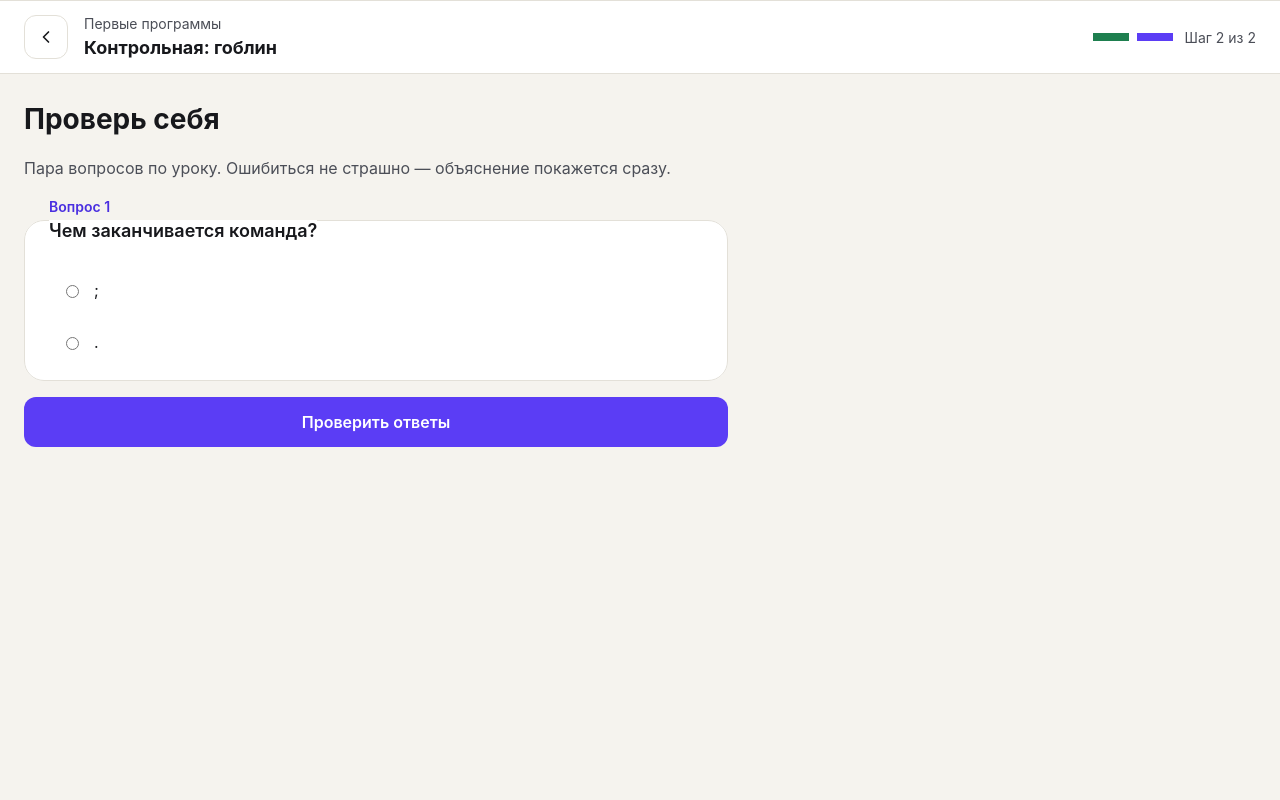
Test case: LessonView › вопросы контрольной пройдены, а урок модуля — нет: сколько осталось и куда идти
Step 1. Click the radio button labelled ";" → (72, 292), box [66,285,79,298]
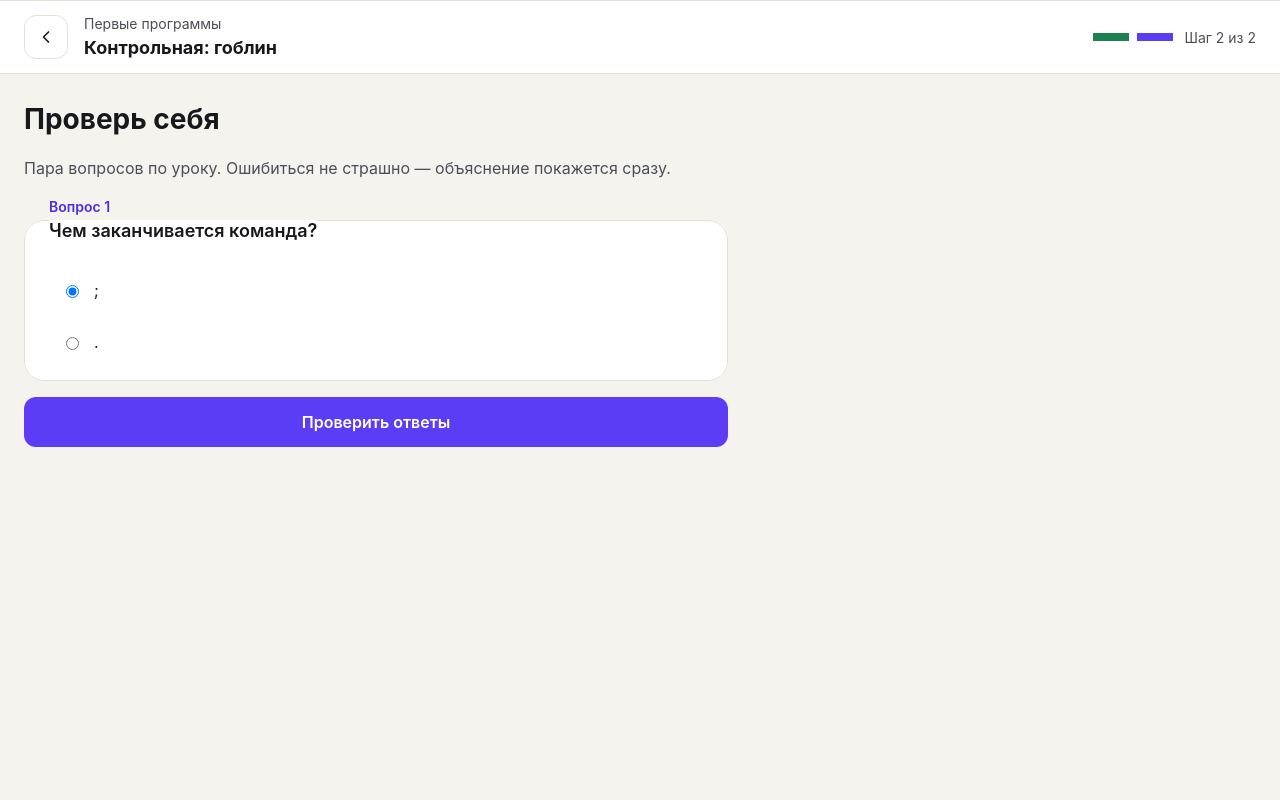
Step 2. Click the button "Проверить ответы" → (376, 422), box [24,397,728,447]
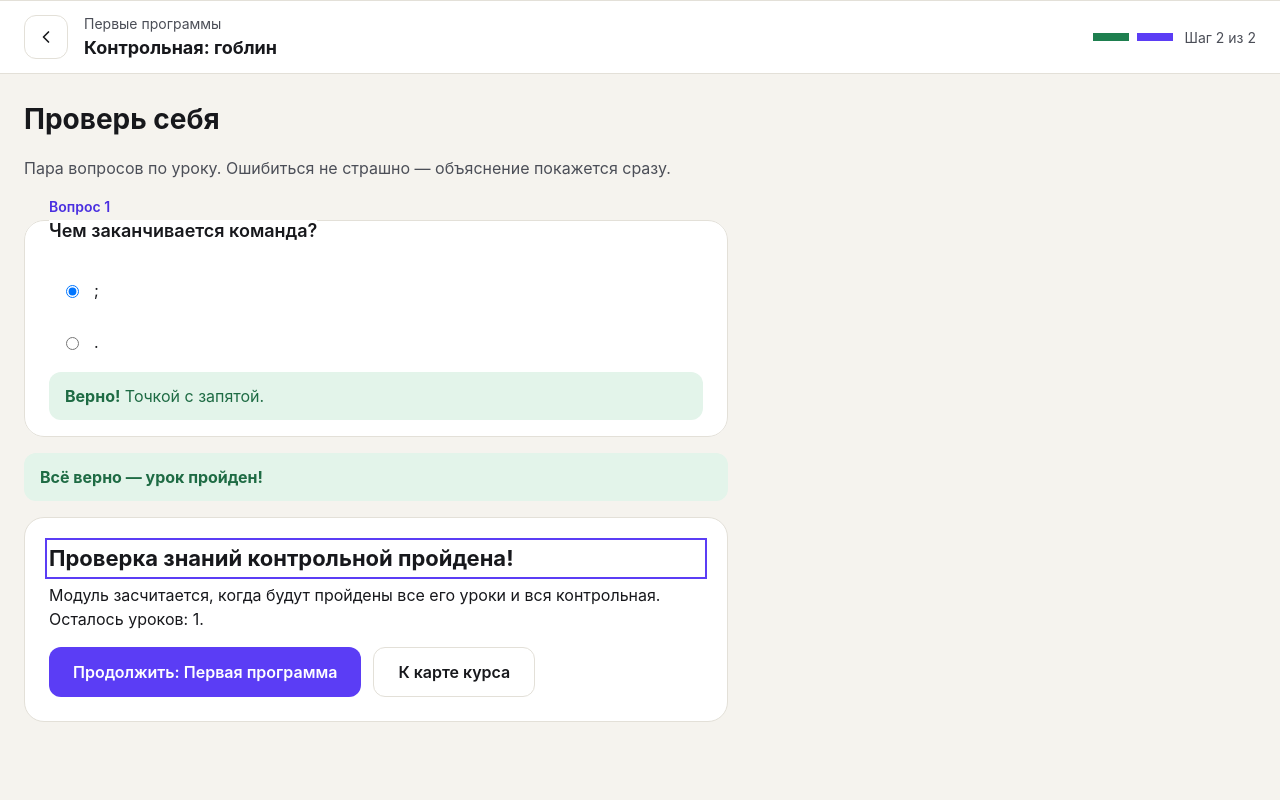
Result: the heading "Проверка знаний контрольной пройдена!" is shown at [49,545,514,571]
Result: the element that starts with "Проверка знаний контрольной пройдена!" shows "Осталось уроков: 1." at [49,585,660,629]
